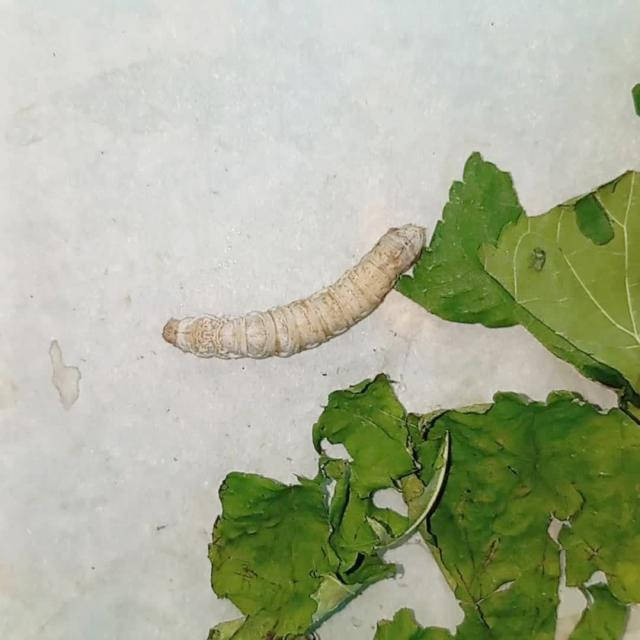Grasserie: (154, 216, 439, 376)
